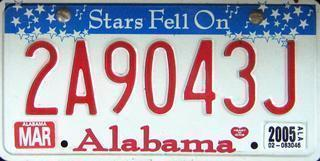placa de veiculo: (2, 2, 315, 158)
